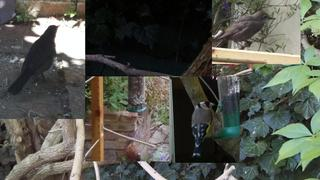blackbird: (7, 24, 61, 95)
goldfinch: (191, 100, 216, 157)
starling: (215, 10, 277, 50)
